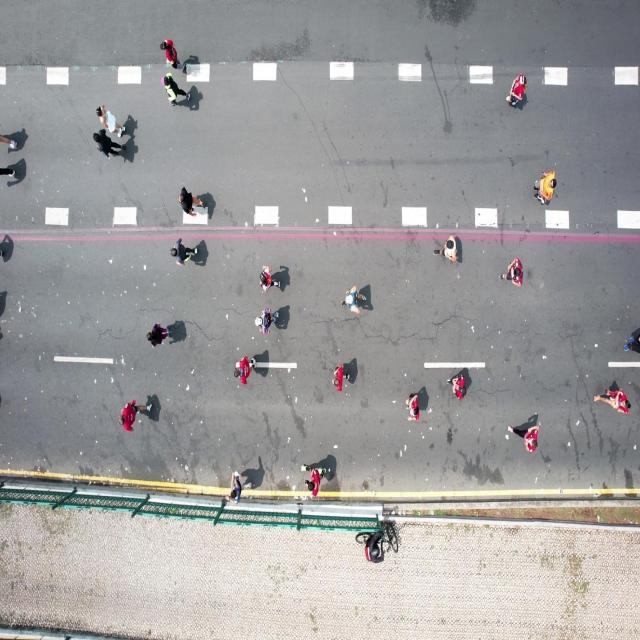Cycle: (355, 524, 398, 562)
